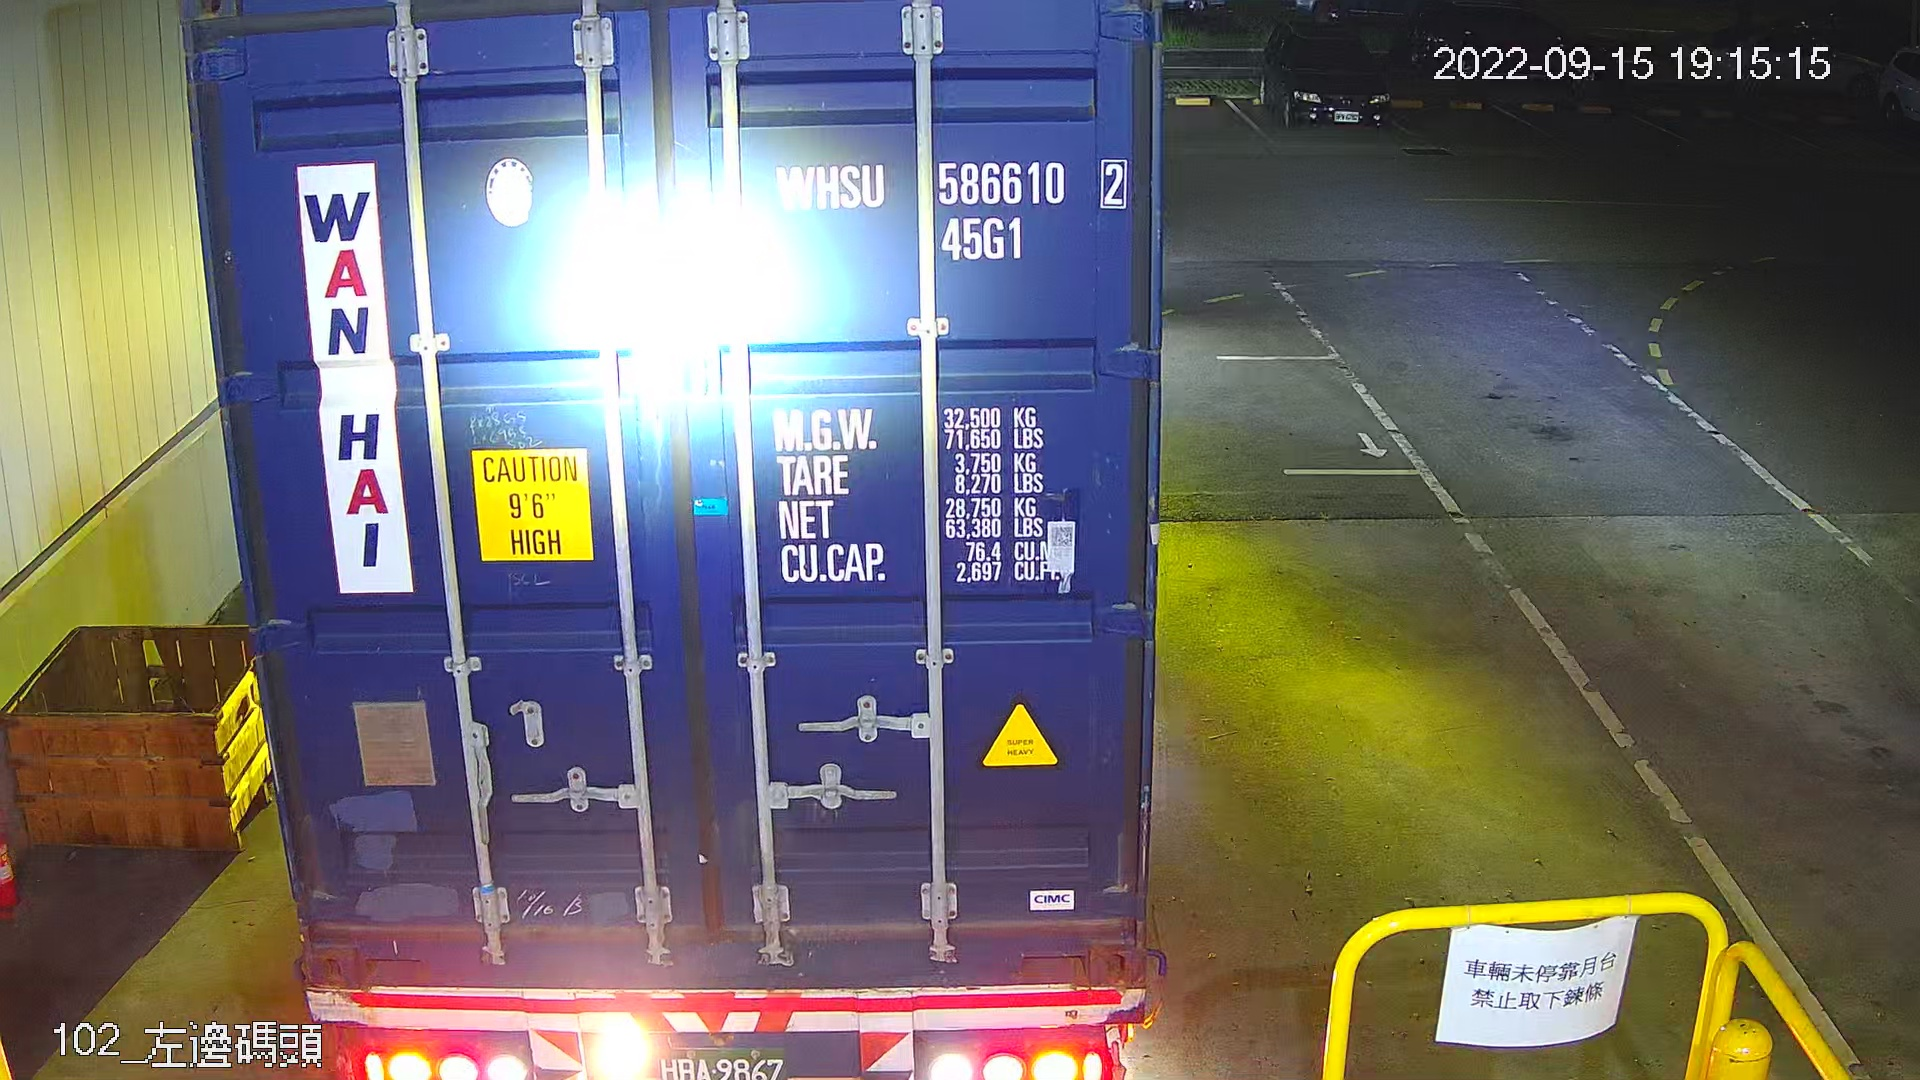container: (764, 152, 1141, 266)
